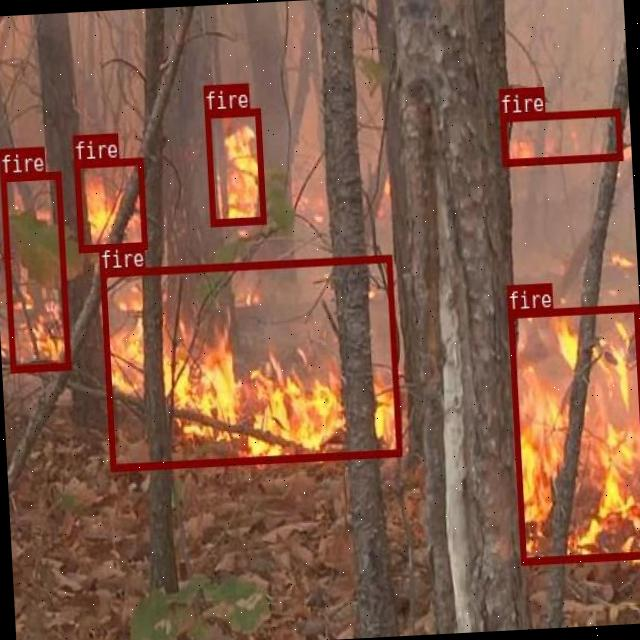fire: (99, 255, 401, 471), (508, 303, 640, 562), (0, 170, 70, 372), (204, 107, 266, 226), (499, 108, 622, 165), (73, 158, 146, 252)
